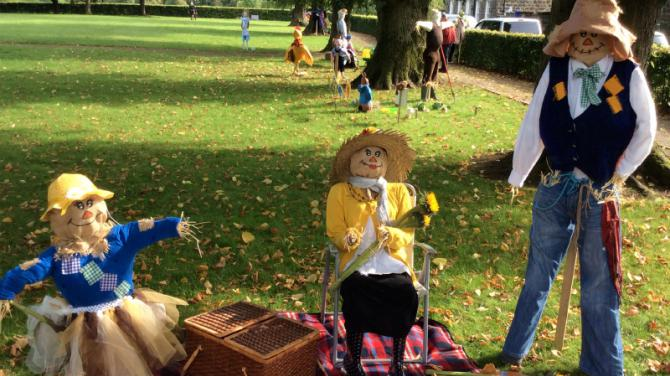person-like: (493, 1, 662, 376), (3, 169, 200, 376), (319, 127, 437, 376)
